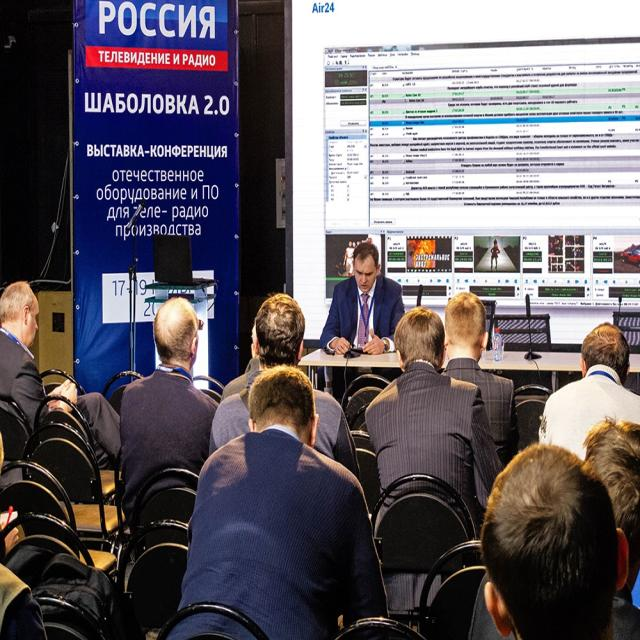body: (161, 363, 391, 639), (364, 306, 505, 618), (475, 433, 632, 640), (477, 437, 632, 639), (207, 291, 365, 488), (118, 295, 221, 532), (0, 279, 122, 474), (436, 289, 518, 476), (537, 320, 640, 463), (317, 241, 407, 402), (0, 430, 47, 639), (215, 312, 268, 437), (330, 234, 370, 276), (486, 236, 503, 270)
